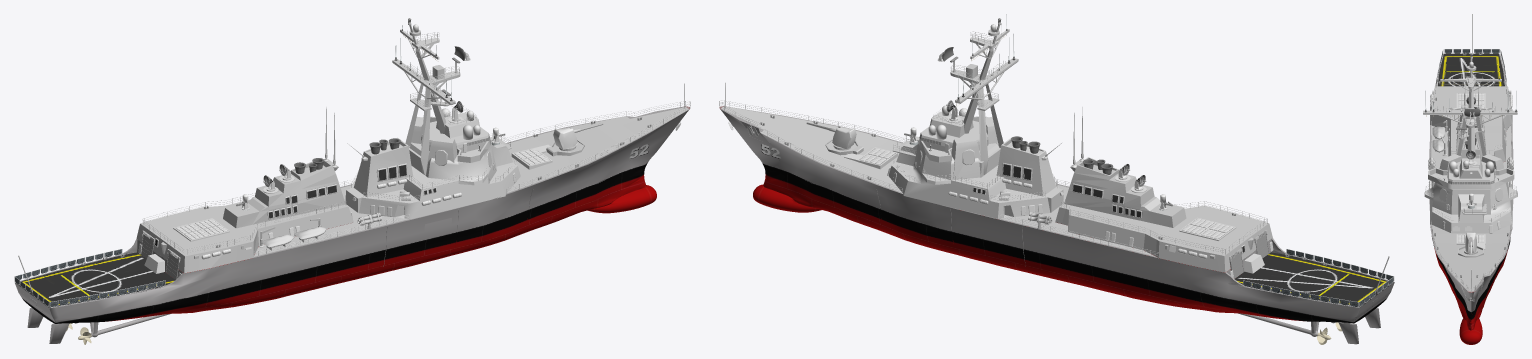
File: Burke-Class-DDG-52-USS-Barry-v03_optimized.glb
The picture shows the model from 3 angles, left to right: view 1: azimuth 30°, elevation 25°; view 2: azimuth 150°, elevation 25°; view 3: azimuth 270°, elevation 25°; orthographic projection. The views are drawn at different scales.
Parts seen in each view (by area): view 1: Port Propeller Shaft01.005, Box196, 5 in mount, Port Propeller Shaft01.013, Port Propeller Shaft01.012, Port Propeller Shaft01.003, Box04, ChamferBox10; view 2: Port Propeller Shaft01.005, Box196, 5 in mount, Port Propeller Shaft01.003, Port Propeller Shaft01.012, Port Propeller Shaft01.013, Box04, ChamferBox10; view 3: Box196, 5 in mount, Port Propeller Shaft01.005, Port Propeller Shaft01.013, Port Propeller Shaft01.012, Port Propeller Shaft01, Cylinder161, Port Propeller Shaft01.010, Box04, Port Propeller Shaft01.009.
Part boxes in pixels (box(x1,y1,x2,y2)): Port Propeller Shaft01.005: box(14, 106, 690, 323); Box196: box(18, 24, 690, 292); 5 in mount: box(136, 107, 688, 273); Port Propeller Shaft01.013: box(14, 191, 410, 307); Port Propeller Shaft01.012: box(15, 249, 165, 306); Port Propeller Shaft01.003: box(21, 167, 387, 343); Box04: box(38, 18, 651, 297); ChamferBox10: box(155, 165, 436, 245); Port Propeller Shaft01.005: box(719, 106, 1394, 323); Box196: box(719, 24, 1389, 293); 5 in mount: box(721, 106, 1272, 272); Port Propeller Shaft01.003: box(1022, 167, 1388, 344); Port Propeller Shaft01.012: box(1243, 249, 1393, 306); Port Propeller Shaft01.013: box(999, 191, 1394, 307); Box04: box(760, 18, 1377, 297); ChamferBox10: box(973, 164, 1244, 252); Box196: box(1423, 14, 1517, 301); 5 in mount: box(1430, 86, 1512, 291); Port Propeller Shaft01.005: box(1429, 53, 1513, 344); Port Propeller Shaft01.013: box(1432, 49, 1506, 155); Port Propeller Shaft01.012: box(1437, 49, 1506, 81); Port Propeller Shaft01: box(1426, 82, 1501, 184); Cylinder161: box(1425, 75, 1516, 208); Port Propeller Shaft01.010: box(1439, 188, 1503, 270); Box04: box(1434, 52, 1508, 277); Port Propeller Shaft01.009: box(1466, 96, 1475, 159).
Bounding box in the file's own units: 157 × 54.26 × 23.55.
Materials: 20 (20 with a texture image).
